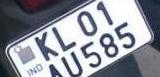0: (75, 10, 100, 36)
1: (96, 1, 115, 26)
5: (114, 22, 139, 49), (80, 41, 102, 67)
8: (99, 33, 120, 58)
K: (33, 31, 60, 61)
L: (51, 26, 78, 51)
U: (60, 52, 86, 77)
